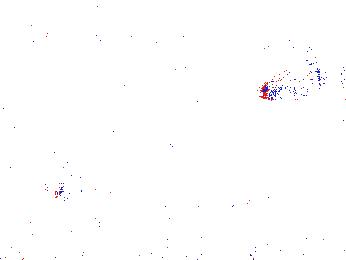flame jellyfish: (219, 168, 291, 220), (45, 159, 114, 210), (259, 54, 328, 101)
